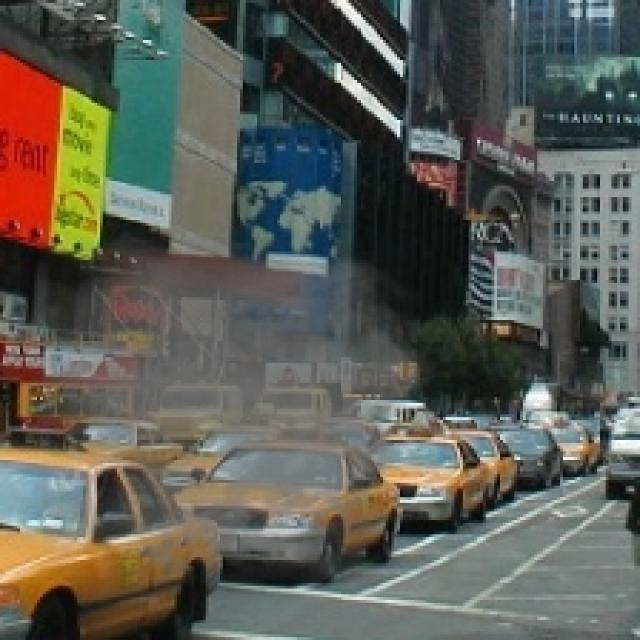Smoke: (42, 237, 448, 586)
